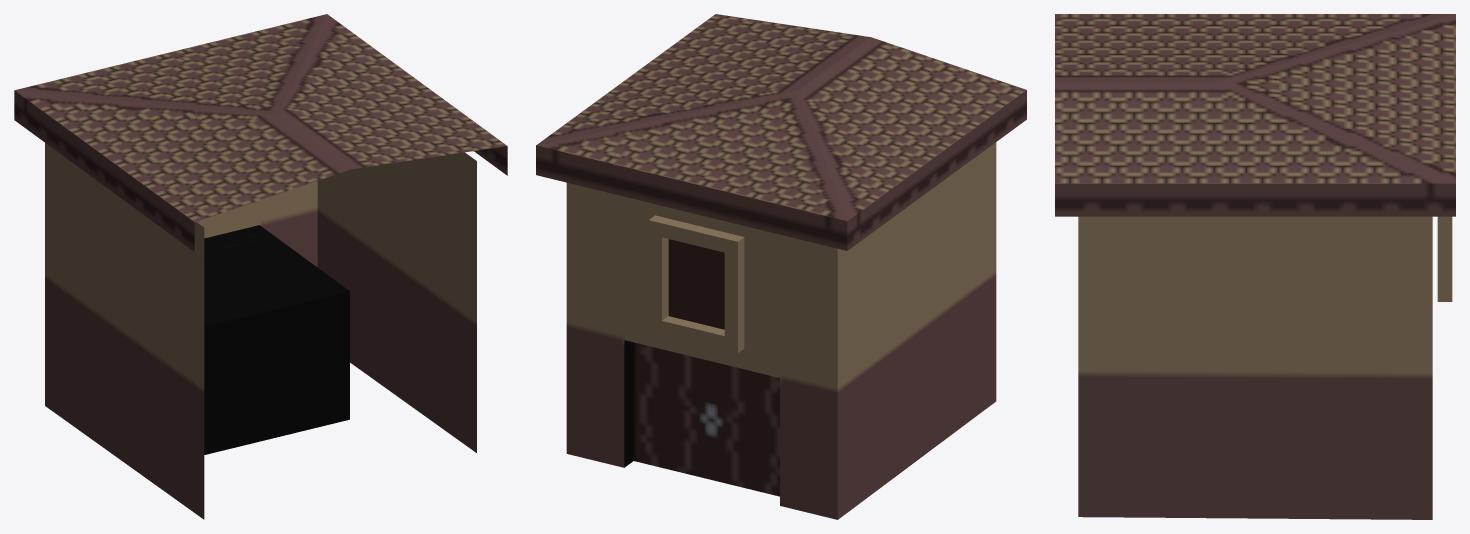
Rendered from House_small.fbx.
The picture shows the model from 3 angles, left to right: view 1: azimuth 30°, elevation 25°; view 2: azimuth 150°, elevation 25°; view 3: azimuth 270°, elevation 25°; orthographic projection. The views are drawn at different scales.
Parts seen in each view (by area): view 1: House_small; view 2: House_small; view 3: House_small.
Boxes of the visible parts, box(x1,y1,x2,y2) form: House_small: box(14, 14, 507, 519); House_small: box(536, 14, 1026, 519); House_small: box(1055, 14, 1455, 519).
Size of the model in its own units: 2 by 2 by 2.
1 material, 1 textured.
